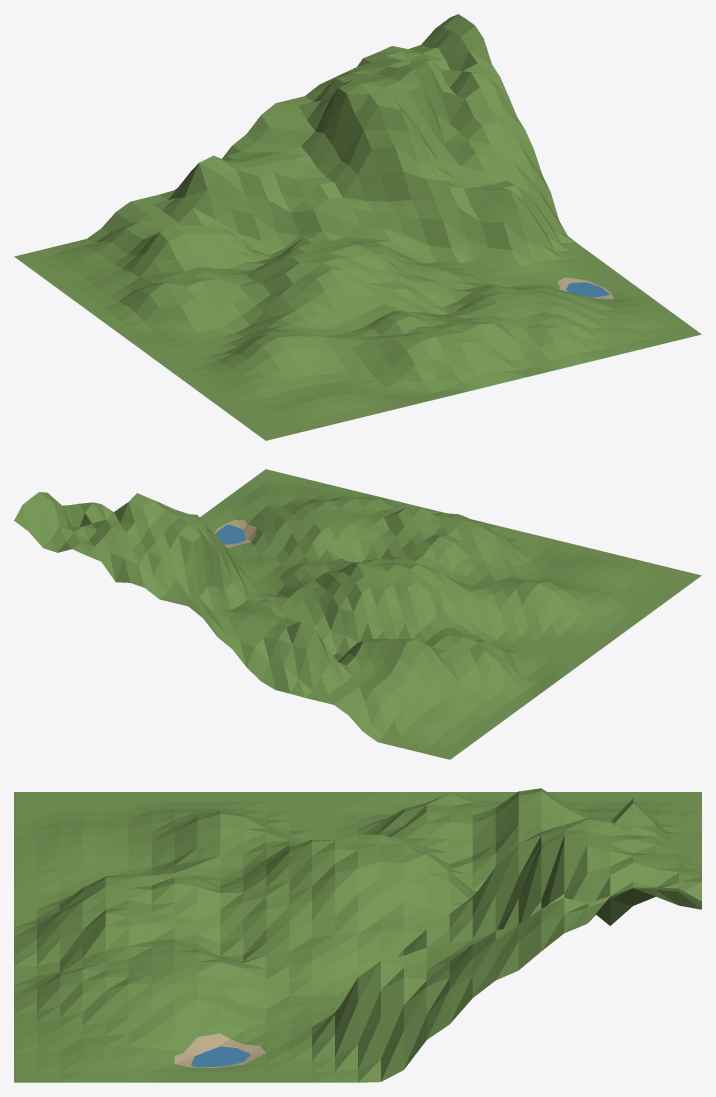
The model's file is Ground_01.FBX.
The picture shows the model from 3 angles, top to bottom: view 1: azimuth 30°, elevation 25°; view 2: azimuth 150°, elevation 25°; view 3: azimuth 270°, elevation 25°; orthographic projection. The views are drawn at different scales.
Visible parts, largest first — view 1: Ground_01; view 2: Ground_01; view 3: Ground_01.
Part boxes in pixels (x1=…): Ground_01: x1=14, y1=14, x2=701, y2=440; Ground_01: x1=14, y1=469, x2=701, y2=759; Ground_01: x1=14, y1=788, x2=701, y2=1082.
Bounding box in the file's own units: 50 × 16.08 × 50.
